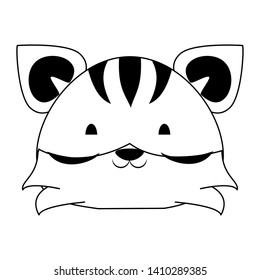animal: (12, 39, 247, 216)
